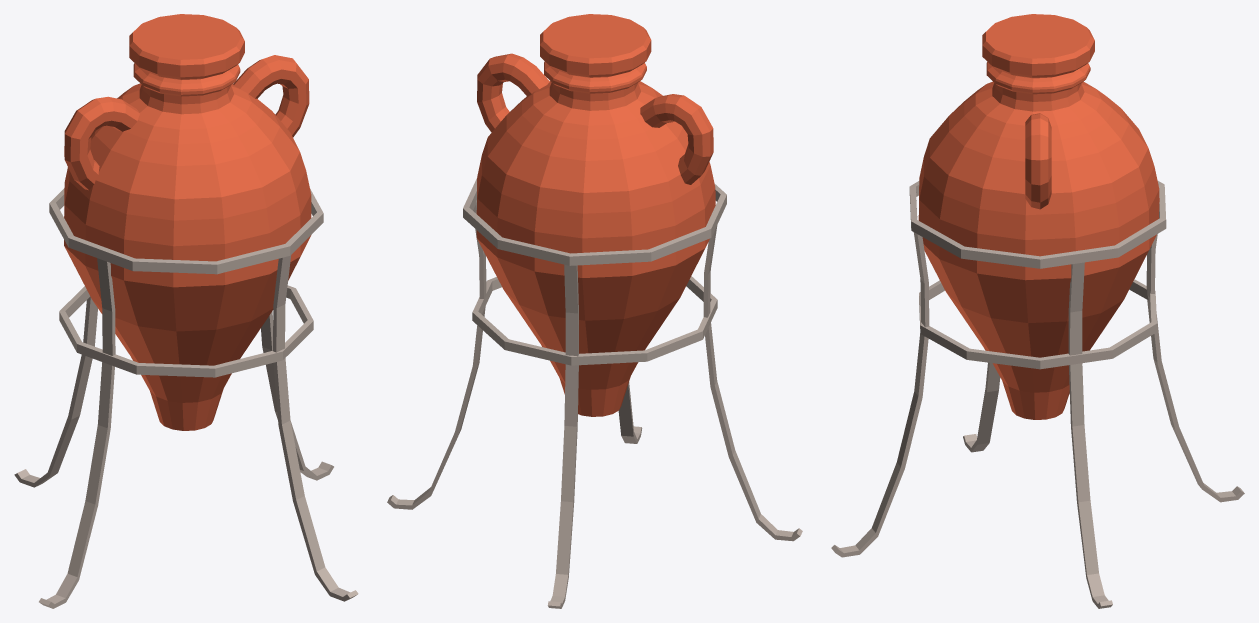
The model's file is AmphoraStand.fbx.
3 views of the same model, side by side, from view 1: azimuth 30°, elevation 25°; view 2: azimuth 150°, elevation 25°; view 3: azimuth 270°, elevation 25° (orthographic). The views are drawn at different scales.
Visible parts, largest first — view 1: Cylinder, Cube.001; view 2: Cylinder, Cube.001; view 3: Cylinder, Cube.001.
Boxes of the visible parts, x1,y1,x2,y2 form: Cylinder: (64, 14, 311, 430); Cube.001: (14, 188, 358, 608); Cylinder: (476, 14, 715, 416); Cube.001: (387, 178, 802, 608); Cylinder: (918, 14, 1159, 419); Cube.001: (831, 181, 1244, 608).
Size of the model in its own units: 197 by 263 by 201.
